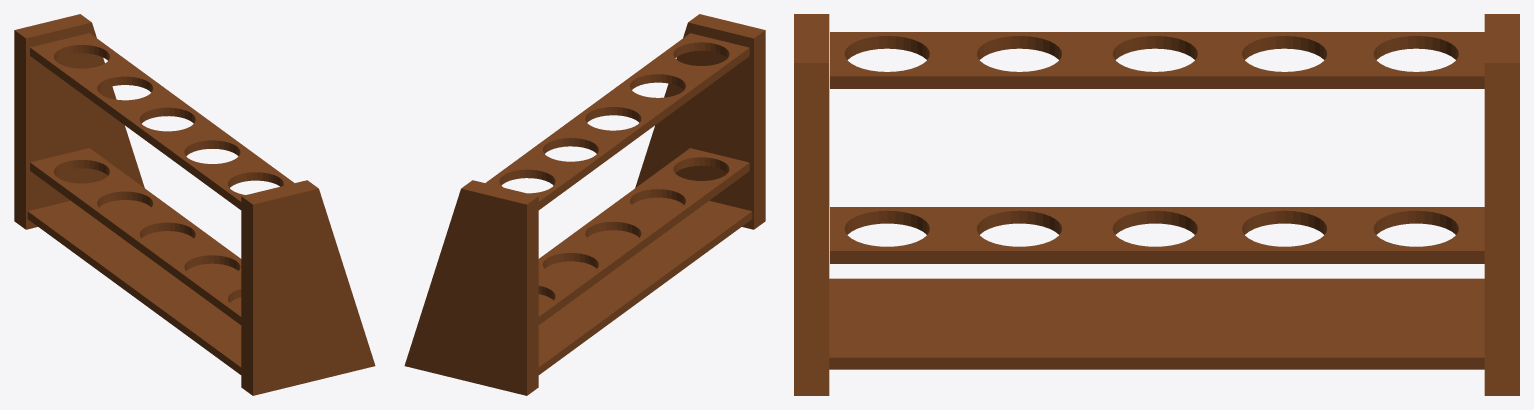
Rendered from TesttubeRack.dae.
The picture shows the model from 3 angles, left to right: view 1: azimuth 30°, elevation 25°; view 2: azimuth 150°, elevation 25°; view 3: azimuth 270°, elevation 25°; orthographic projection. The views are drawn at different scales.
Visible parts, largest first — view 1: Cube, Cube.002, Cube.004, Cube.001, Cube.003; view 2: Cube.002, Cube, Cube.004, Cube.001, Cube.003; view 3: Cube.004, Cube.003, Cube.001, Cube.002, Cube.
Boxes of the visible parts, <box> form: Cube: <box>241,180,375,395</box>; Cube.002: <box>14,14,144,229</box>; Cube.004: <box>27,200,241,374</box>; Cube.001: <box>30,33,294,209</box>; Cube.003: <box>30,148,241,324</box>; Cube.002: <box>404,180,538,395</box>; Cube: <box>635,14,765,229</box>; Cube.004: <box>538,197,752,374</box>; Cube.001: <box>485,33,749,209</box>; Cube.003: <box>538,148,749,324</box>; Cube.004: <box>829,278,1484,369</box>; Cube.003: <box>830,207,1484,263</box>; Cube.001: <box>830,32,1484,88</box>; Cube.002: <box>1484,14,1519,395</box>; Cube: <box>794,14,829,395</box>.
Size of the model in its own units: 0.0748 by 0.2521 by 0.1115.
